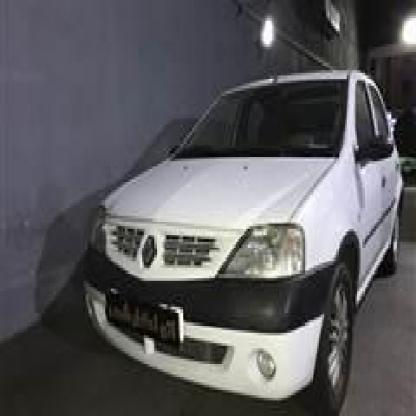Car: (80, 65, 407, 416)
